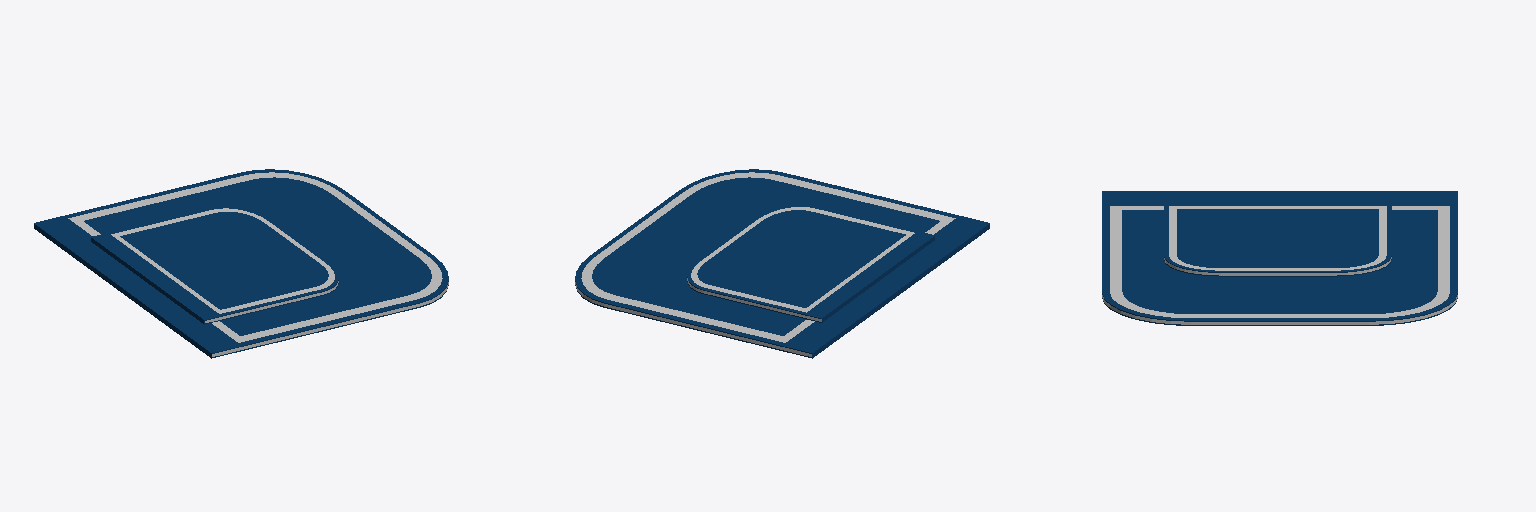
File: floorStudio1.obj
The picture shows the model from 3 angles: view 1: azimuth 30°, elevation 25°; view 2: azimuth 150°, elevation 25°; view 3: azimuth 270°, elevation 25°; orthographic projection.
Parts seen in each view (by area): view 1: Plane.004; view 2: Plane.004; view 3: Plane.004.
Boxes of the visible parts, x1=… form: Plane.004: x1=34, y1=169, x2=448, y2=358; Plane.004: x1=575, y1=169, x2=989, y2=358; Plane.004: x1=1102, y1=191, x2=1457, y2=325.
Size of the model in its own units: 84.87 by 2.97 by 98.02.